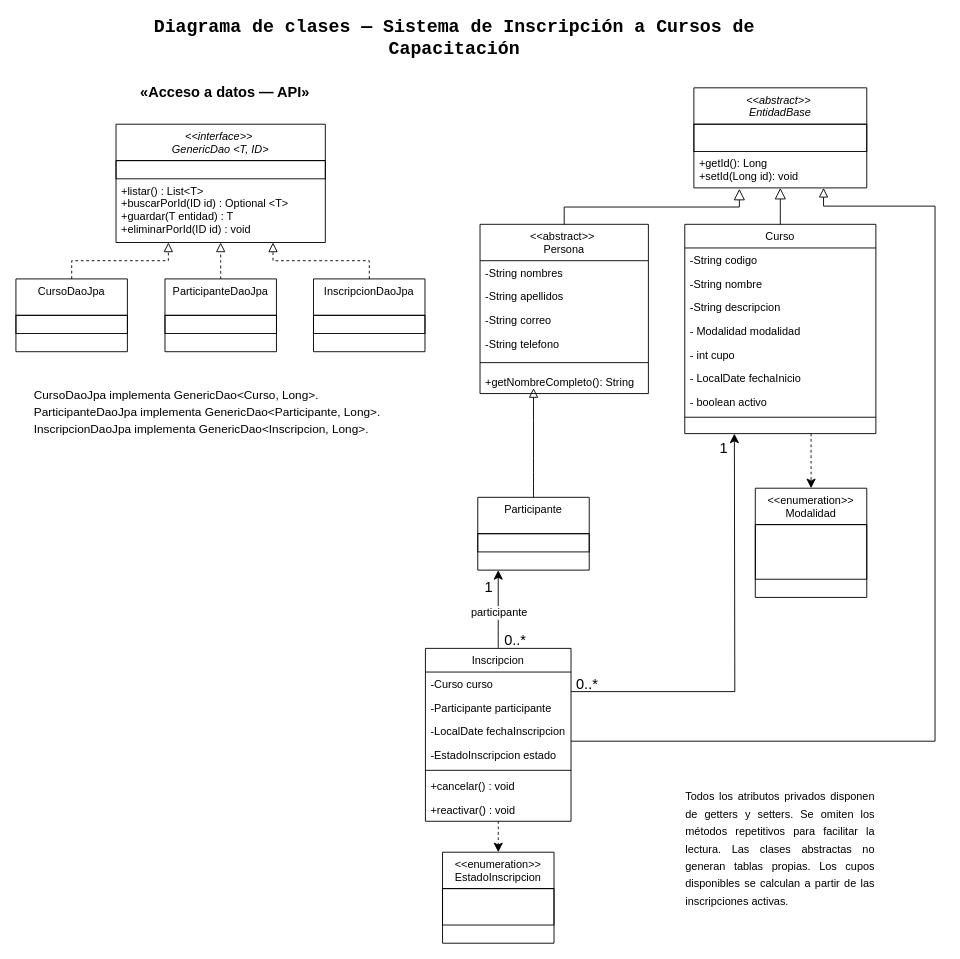
This 960x959 diagram has some shape labels left out. The shapes that lost their labels are listed below. From the top down, each one's centre as x and y in pixels, then its label:
At (x=780, y=137): "-Long id".
At (x=810, y=551): "PRESENCIAL VIRTUAL MIXTA".
At (x=498, y=906): "ACTIVA CANCELADA".
